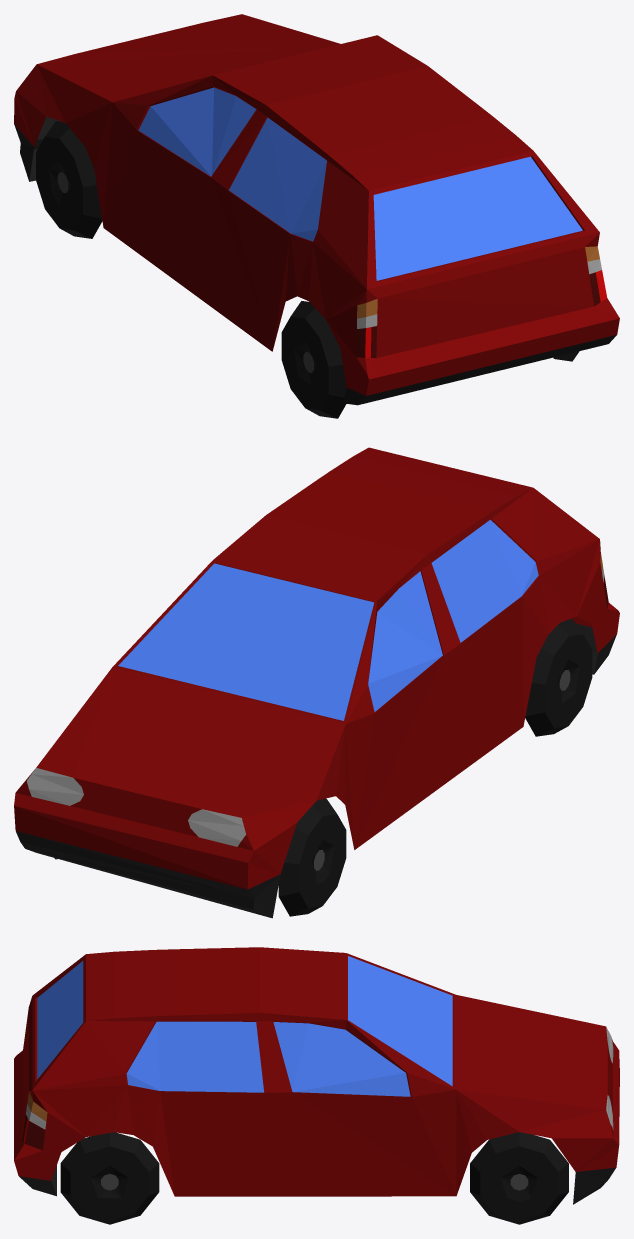
File: golf.fbx
The picture shows the model from 3 angles, top to bottom: view 1: azimuth 30°, elevation 25°; view 2: azimuth 150°, elevation 25°; view 3: azimuth 270°, elevation 25°; orthographic projection. The views are drawn at different scales.
Parts seen in each view (by area): view 1: Cube; view 2: Cube; view 3: Cube.
Boxes of the visible parts, left/top/right/bottom form: Cube: left=14, top=14, right=619, bottom=418; Cube: left=14, top=447, right=619, bottom=918; Cube: left=14, top=947, right=619, bottom=1224.
Size of the model in its own units: 455 by 163 by 191.
